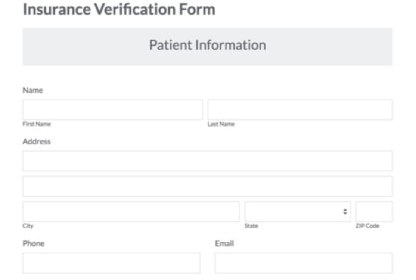textbox: (20, 148, 396, 174), (20, 175, 396, 199), (20, 200, 241, 223), (206, 96, 397, 122), (211, 250, 397, 276), (19, 97, 204, 122), (19, 251, 204, 276), (242, 201, 352, 223), (353, 200, 397, 223)
